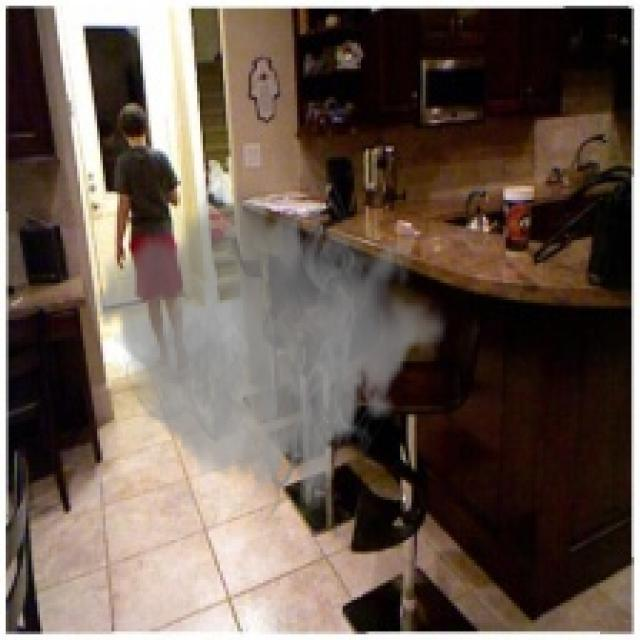smoke: (94, 154, 449, 523)
